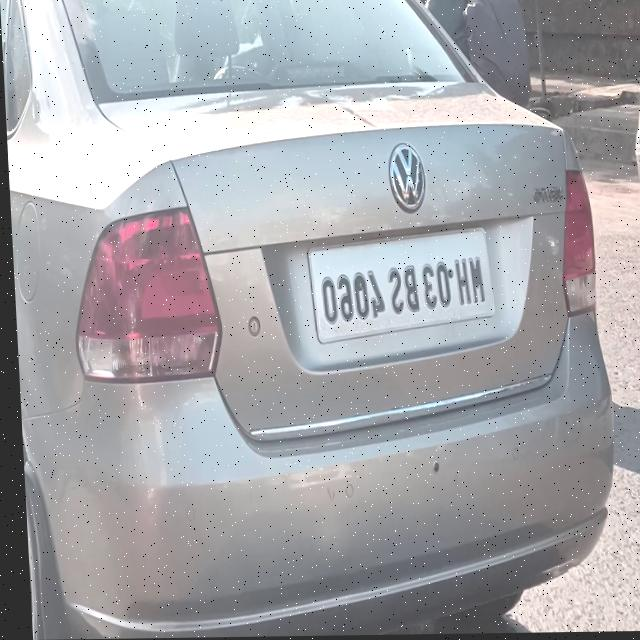plate: (304, 228, 494, 350)
